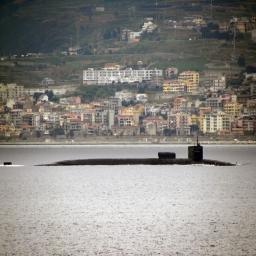submarine: (5, 139, 240, 167)
